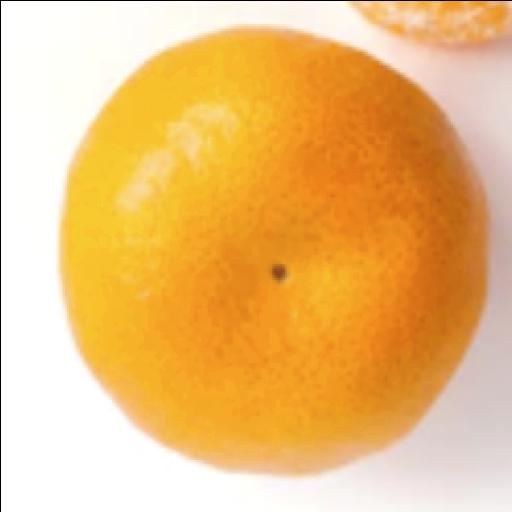orange: (60, 28, 486, 472), (350, 1, 511, 41)
